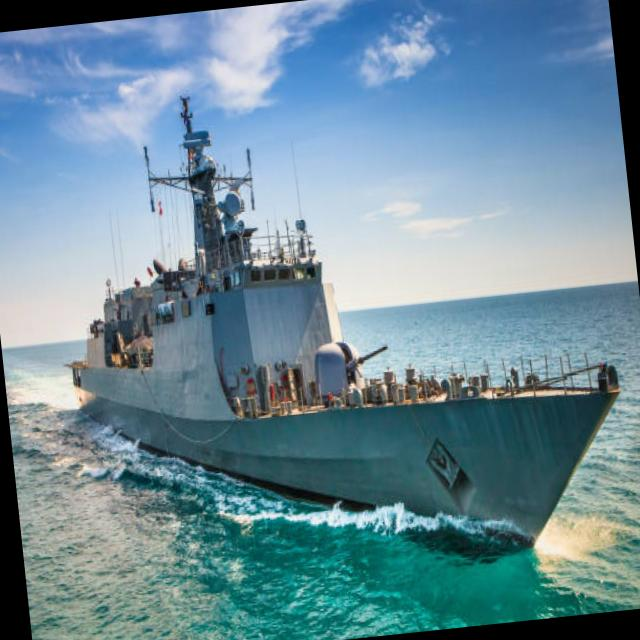Military: (69, 102, 622, 548)
